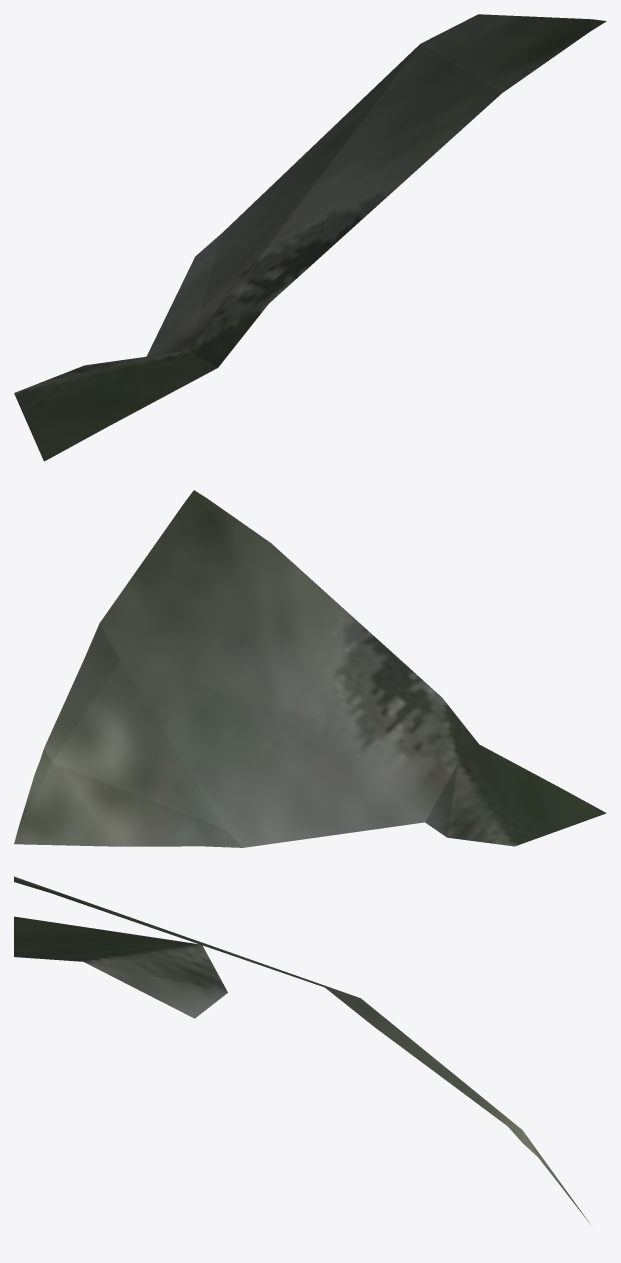
3 renders of one model, top to bottom at view 1: azimuth 30°, elevation 25°; view 2: azimuth 150°, elevation 25°; view 3: azimuth 270°, elevation 25°, orthographic. The views are drawn at different scales.
Size of the model in its own units: 0.5469 by 0.2815 by 0.4129.
Materials: 1 (1 with a texture image).
